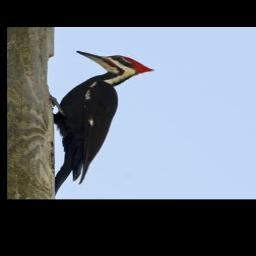Woodpecker: (51, 49, 157, 184)
